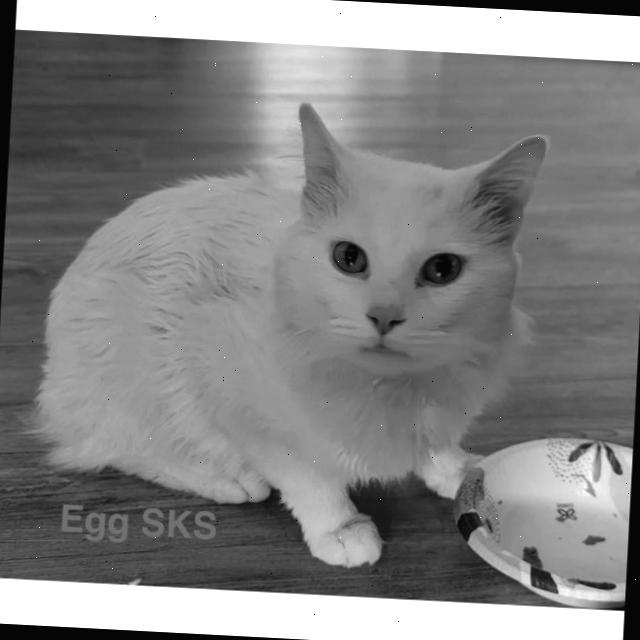manx_cat: (250, 93, 551, 405)
